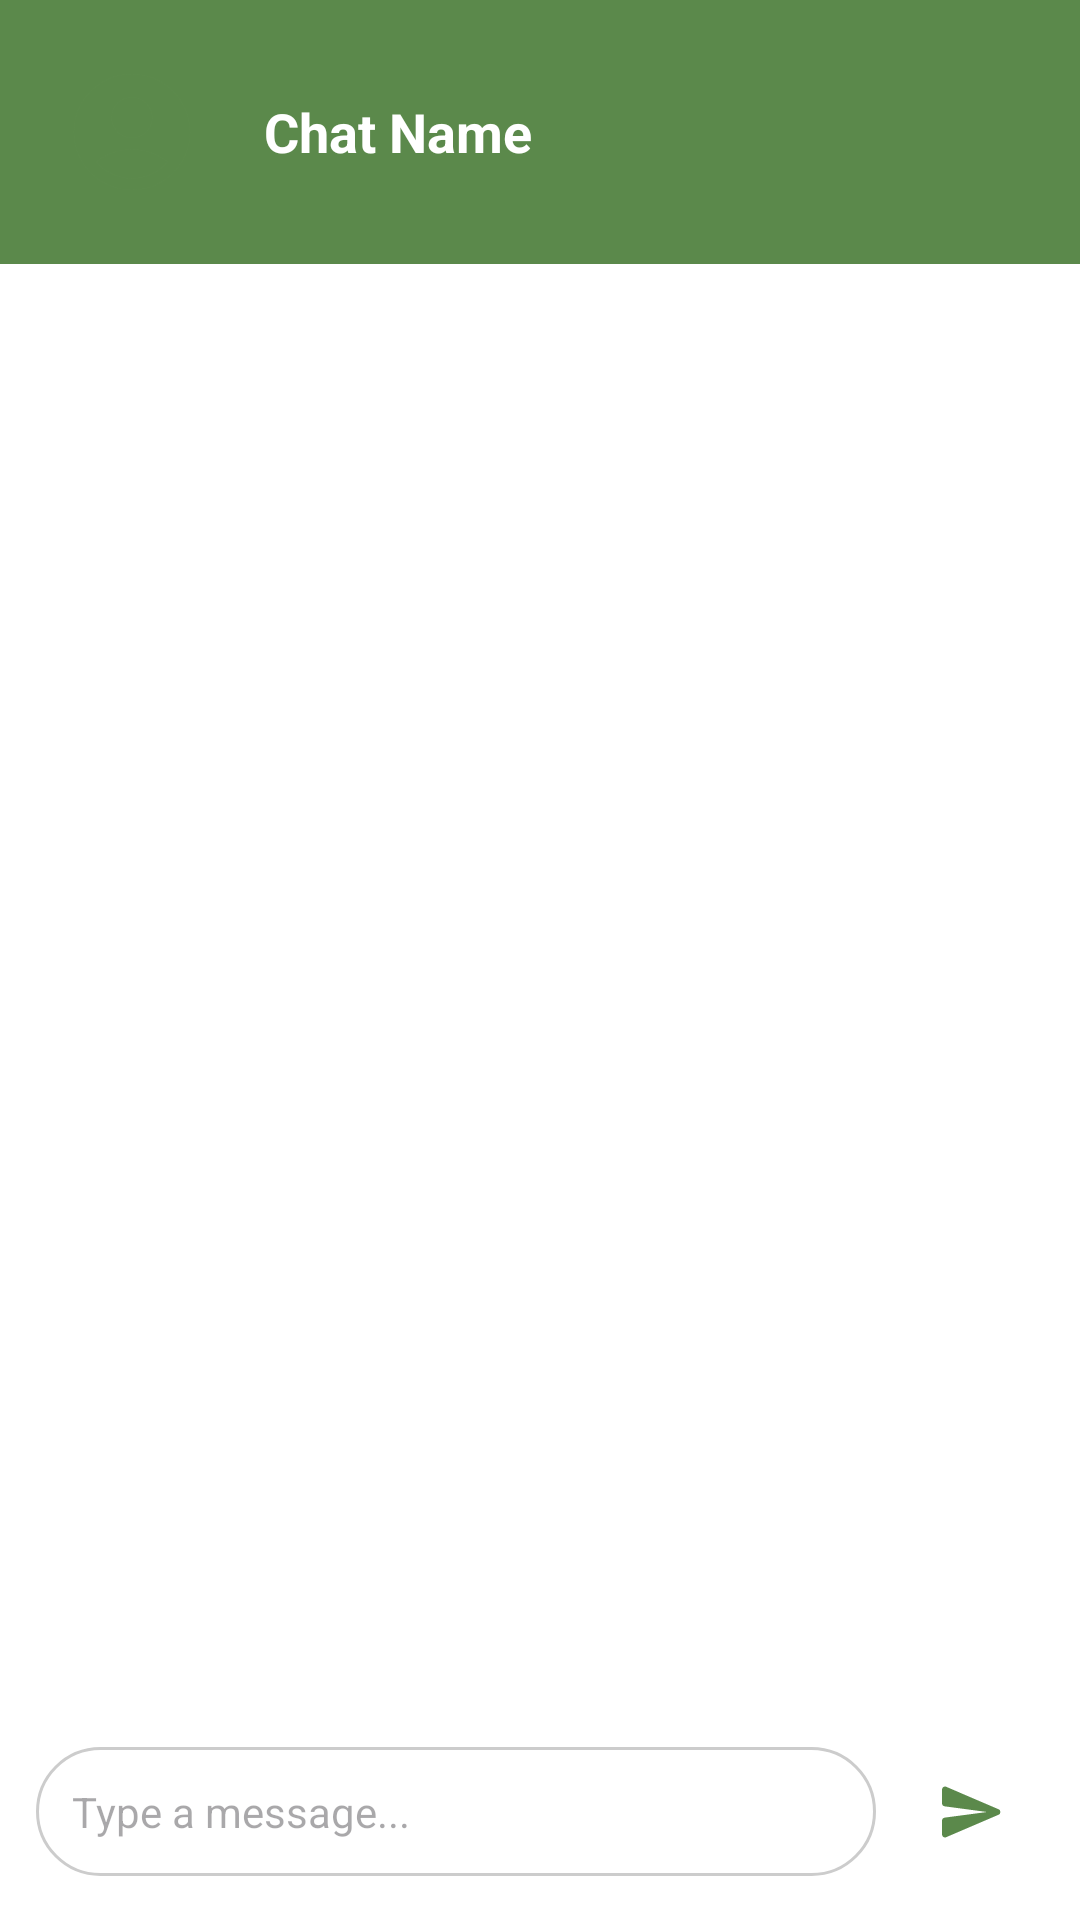

Icon bounding boxes for this 1080×1920 phone screenshot, format (x1, y1, x2, y2):
Send: (942, 1786, 1001, 1838)
